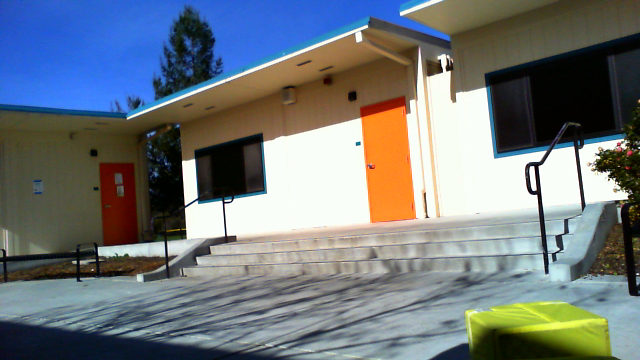cube: (465, 300, 614, 360)
